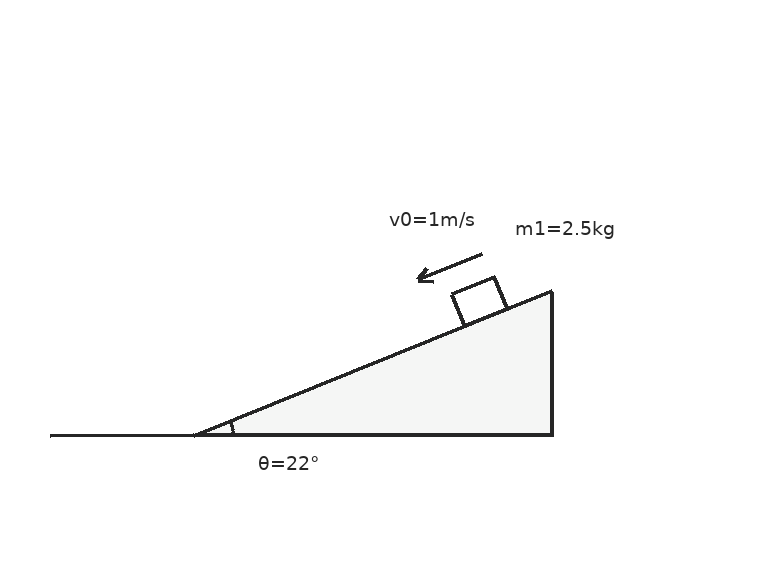block: (449, 275, 509, 328)
ramp: (191, 288, 553, 437)
